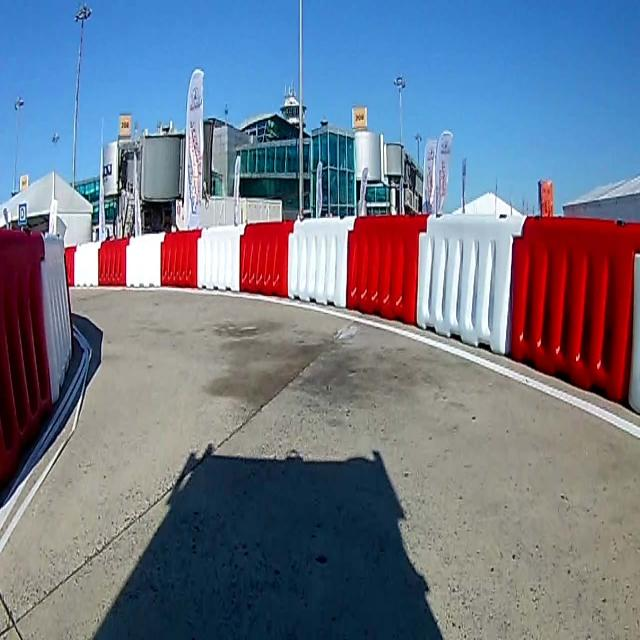durak: (18, 202, 27, 225)
